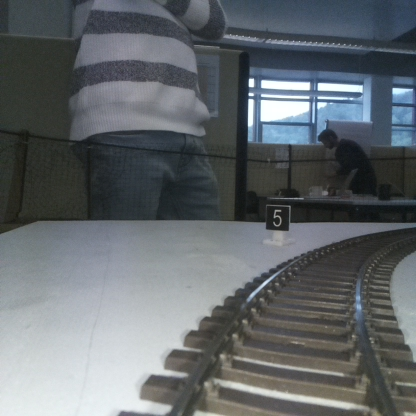black-stop-5: (266, 205, 289, 243)
